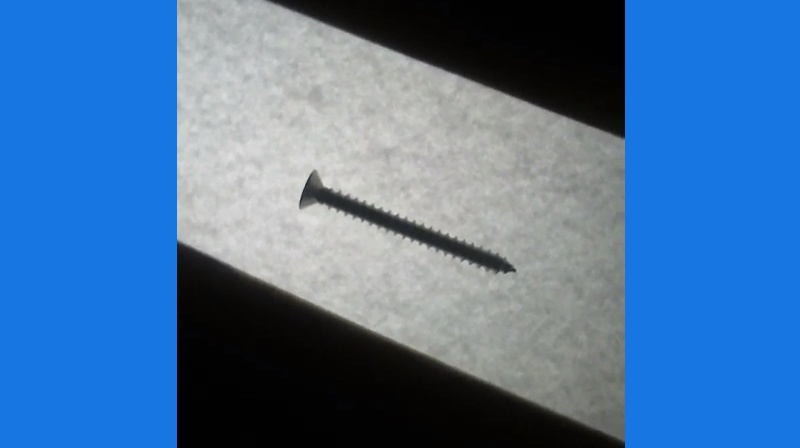S002: (297, 165, 520, 276)
